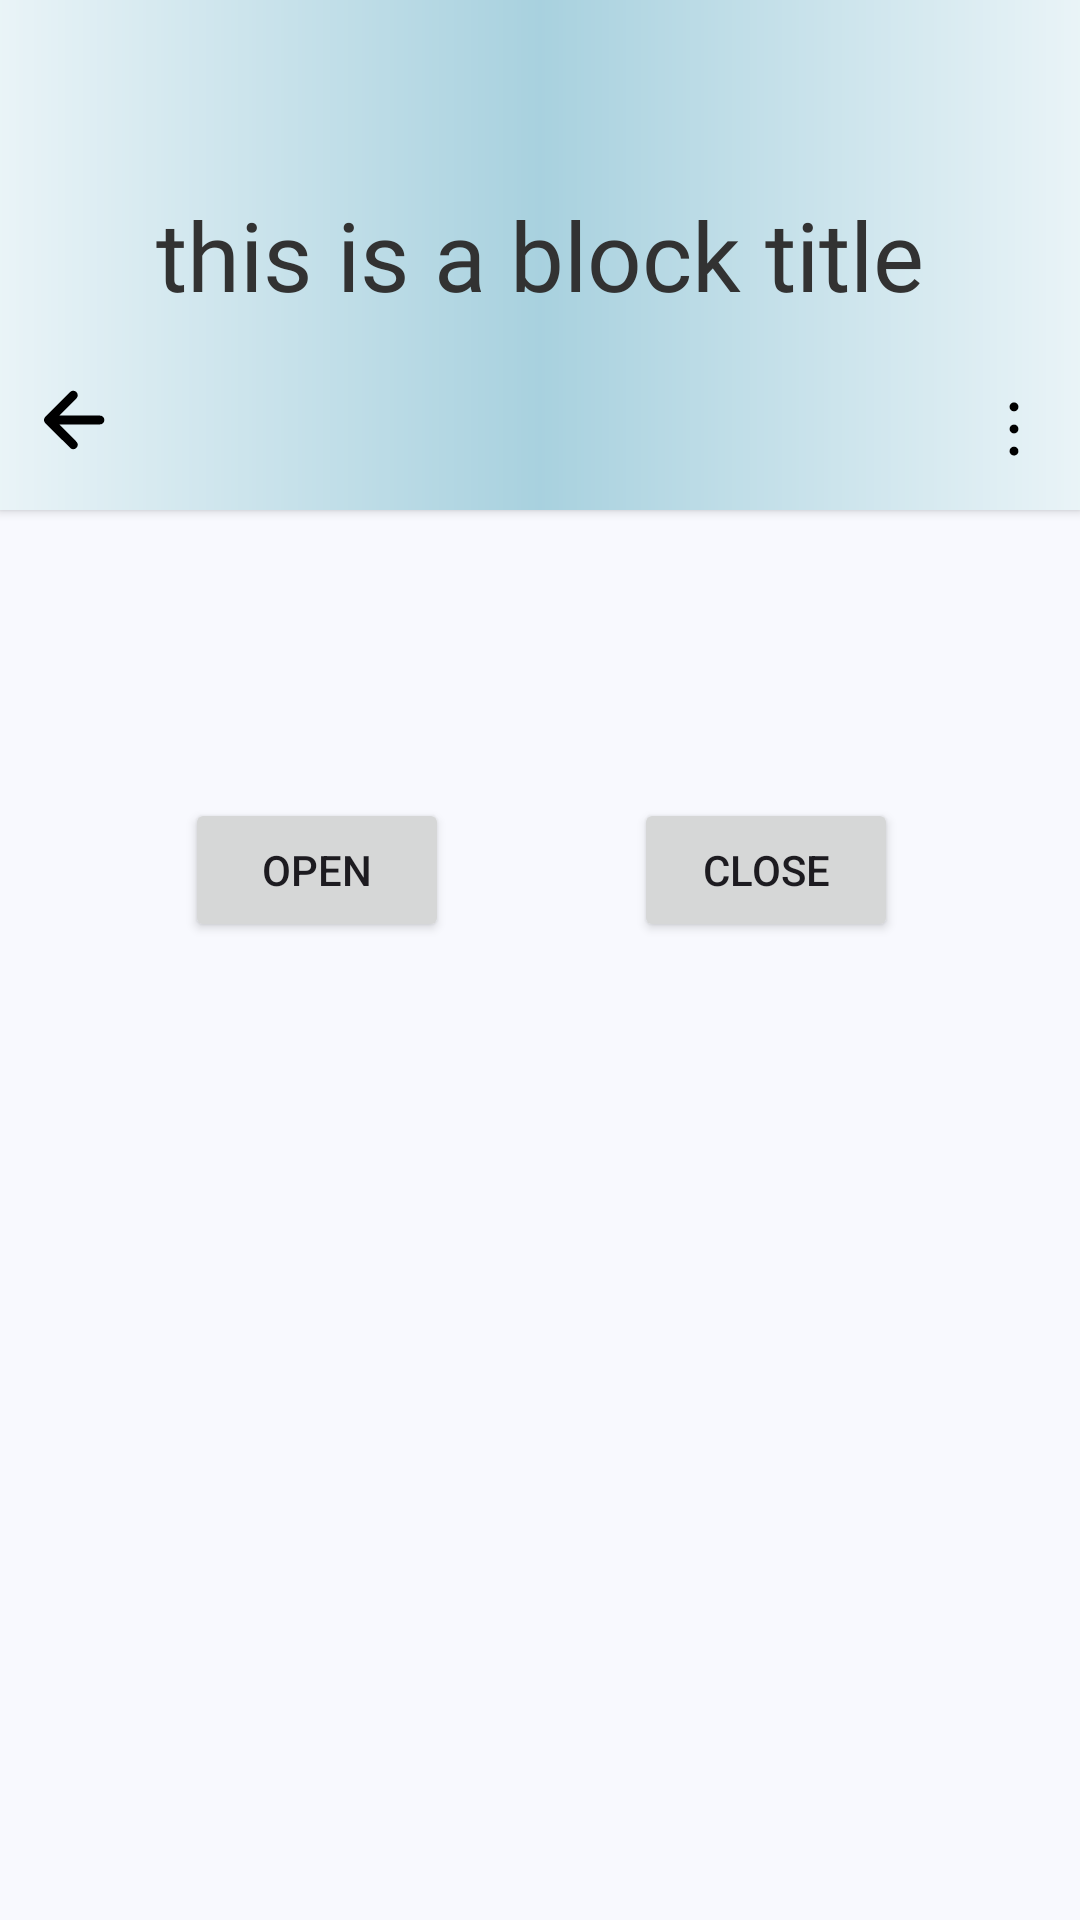

Named icons in this screenshot (1080 x 1920) and their bounding boxes, rect(x1, y1, x2, y2):
back: rect(44, 390, 105, 450)
more: rect(1009, 402, 1019, 456)
